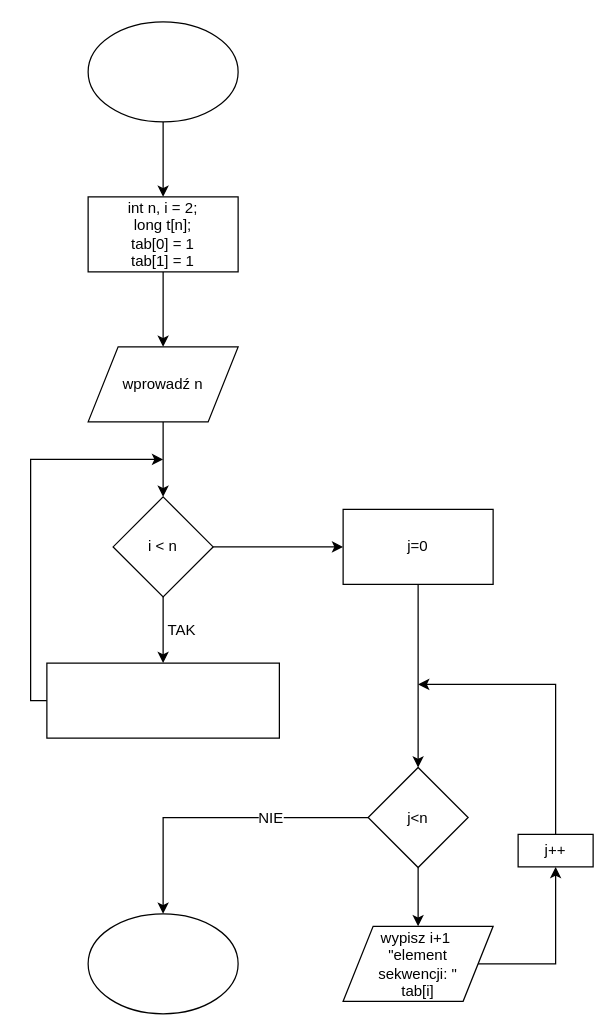
Some shapes in this 615 by 1036 pixel diagram are drawn without their labels. The shapes that lost their labels are listed below. From the top down, each one's box as (x1, y1, x2, y2) in pixels, then its label:
(87, 21, 238, 122): START
(46, 662, 279, 738): tab[i] = tab[i-1] + tab[i-2] i++
(87, 912, 238, 1014): STOP
